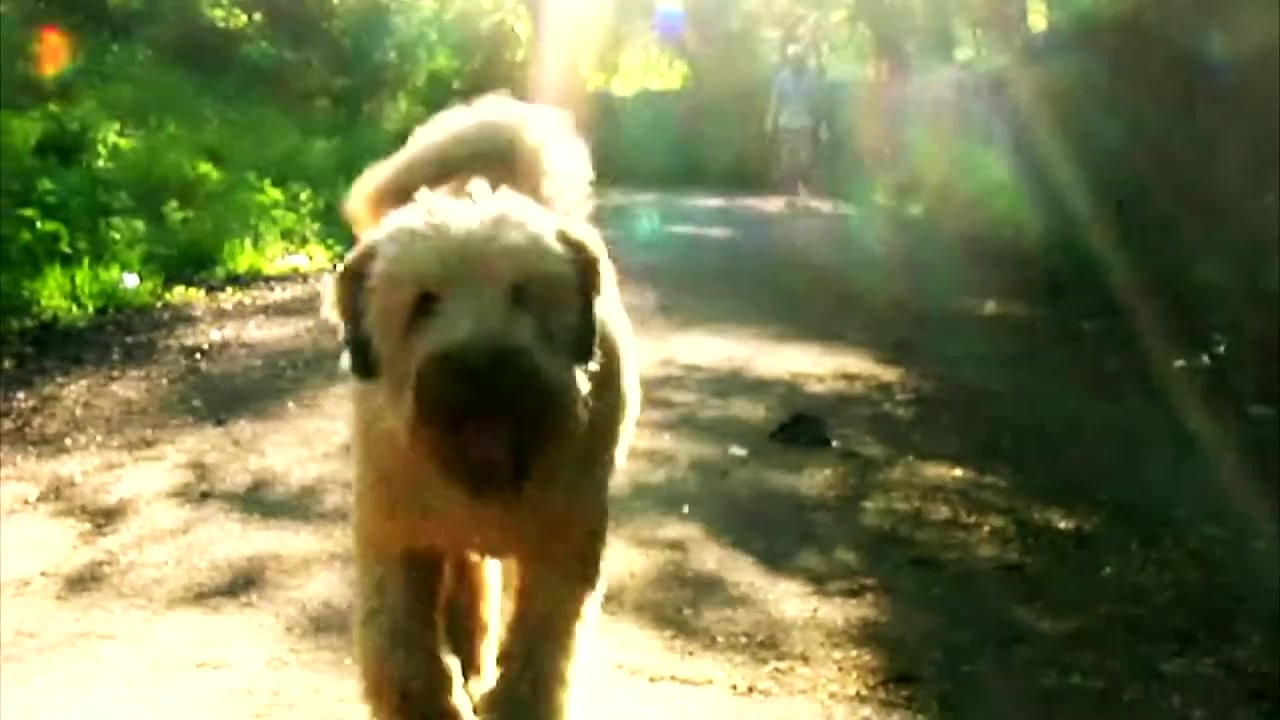dog: (320, 88, 648, 718)
